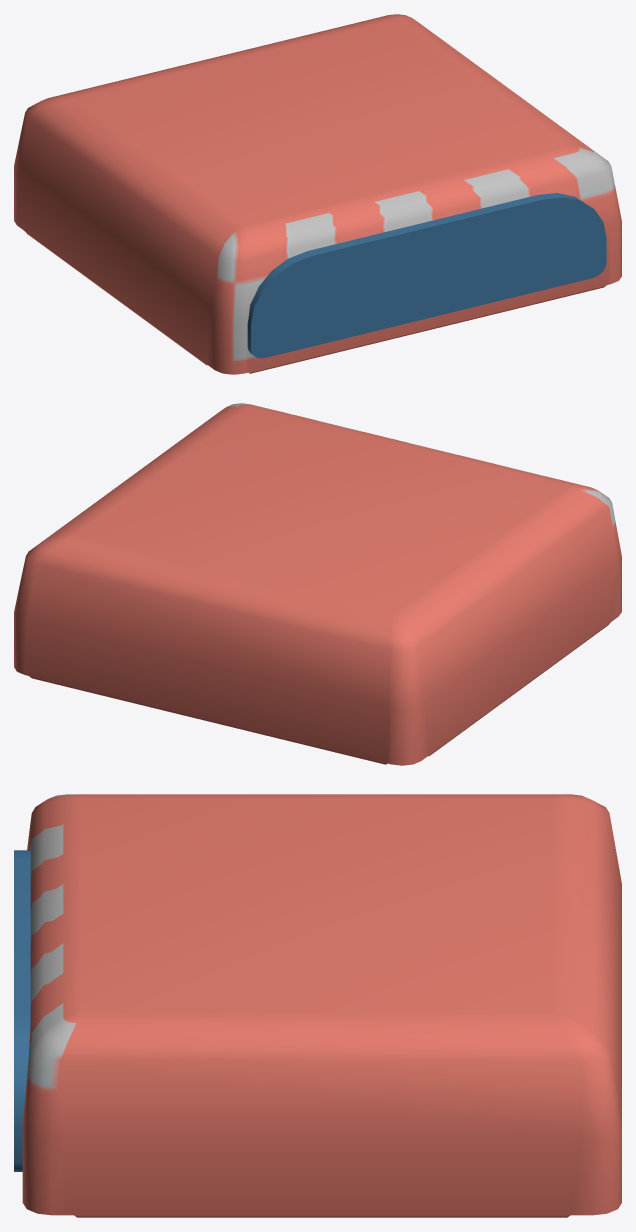
The model's file is machine_head.FBX.
3 views of the same model, one above another, from view 1: azimuth 30°, elevation 25°; view 2: azimuth 150°, elevation 25°; view 3: azimuth 270°, elevation 25° (orthographic). The views are drawn at different scales.
Visible parts, largest first — view 1: machine_head; view 2: machine_head; view 3: machine_head.
Part boxes in pixels (x1,y1,x2,y2): machine_head: (14, 14, 621, 374); machine_head: (14, 403, 621, 765); machine_head: (14, 794, 621, 1217).
Bounding box in the file's own units: 551 × 169 × 526.
Materials: 1 (1 with a texture image).
